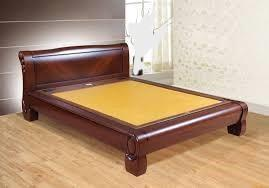Bed-Mattress: (13, 32, 248, 174)
